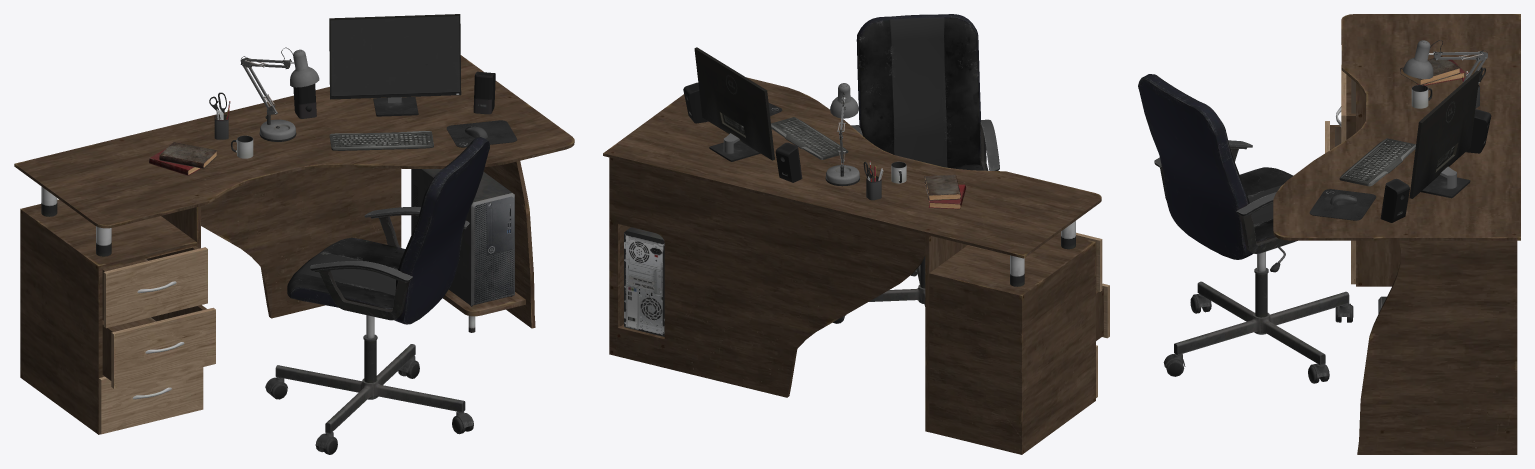
File: desk.glb
The picture shows the model from 3 angles, left to right: view 1: azimuth 30°, elevation 25°; view 2: azimuth 150°, elevation 25°; view 3: azimuth 270°, elevation 25°; orthographic projection. The views are drawn at different scales.
Parts seen in each view (by area): view 1: Desk, Chair, Monitor, Drawer02, Computer, Drawer01, Drawer03, DeskLamp, Keyboard, Mat, Book01, Loudspeaker02 (+1 smaller); view 2: Desk, Chair, Monitor, Computer, Keyboard, DeskLamp, Book01, Loudspeaker01, Drawer02, Loudspeaker02; view 3: Desk, Chair, Monitor, Keyboard, DeskLamp, Mat, Drawer01, Loudspeaker02, Book01, Loudspeaker01, Cup, Drawer02.
Part boxes in pixels (bbox=[...]): Desk: bbox=[14, 55, 574, 434]; Chair: bbox=[265, 137, 489, 454]; Monitor: bbox=[329, 14, 461, 116]; Drawer02: bbox=[102, 305, 215, 388]; Computer: bbox=[411, 169, 514, 306]; Drawer01: bbox=[102, 246, 207, 328]; Drawer03: bbox=[99, 367, 203, 434]; DeskLamp: bbox=[240, 47, 319, 141]; Keyboard: bbox=[329, 131, 433, 150]; Mat: bbox=[446, 120, 517, 147]; Book01: bbox=[159, 142, 217, 168]; Loudspeaker02: bbox=[473, 71, 495, 114]; Desk: bbox=[603, 77, 1101, 454]; Chair: bbox=[833, 14, 999, 323]; Monitor: bbox=[694, 47, 774, 161]; Computer: bbox=[624, 227, 664, 336]; Keyboard: bbox=[771, 117, 848, 159]; DeskLamp: bbox=[825, 83, 859, 186]; Book01: bbox=[924, 174, 960, 200]; Loudspeaker01: bbox=[775, 142, 802, 182]; Drawer02: bbox=[1096, 283, 1109, 340]; Loudspeaker02: bbox=[683, 82, 708, 123]; Desk: bbox=[1273, 14, 1520, 454]; Chair: bbox=[1138, 74, 1353, 383]; Monitor: bbox=[1409, 70, 1479, 198]; Keyboard: bbox=[1339, 138, 1415, 186]; DeskLamp: bbox=[1403, 40, 1487, 82]; Mat: bbox=[1309, 189, 1376, 220]; Drawer01: bbox=[1336, 65, 1355, 142]; Loudspeaker02: bbox=[1380, 178, 1409, 222]; Book01: bbox=[1400, 56, 1460, 84]; Loudspeaker01: bbox=[1466, 109, 1491, 153]; Cup: bbox=[1411, 85, 1432, 108]; Drawer02: bbox=[1325, 121, 1341, 153].
Bounding box in the file's own units: 2.13 × 1.39 × 1.54.
Materials: 14 (14 with a texture image).
